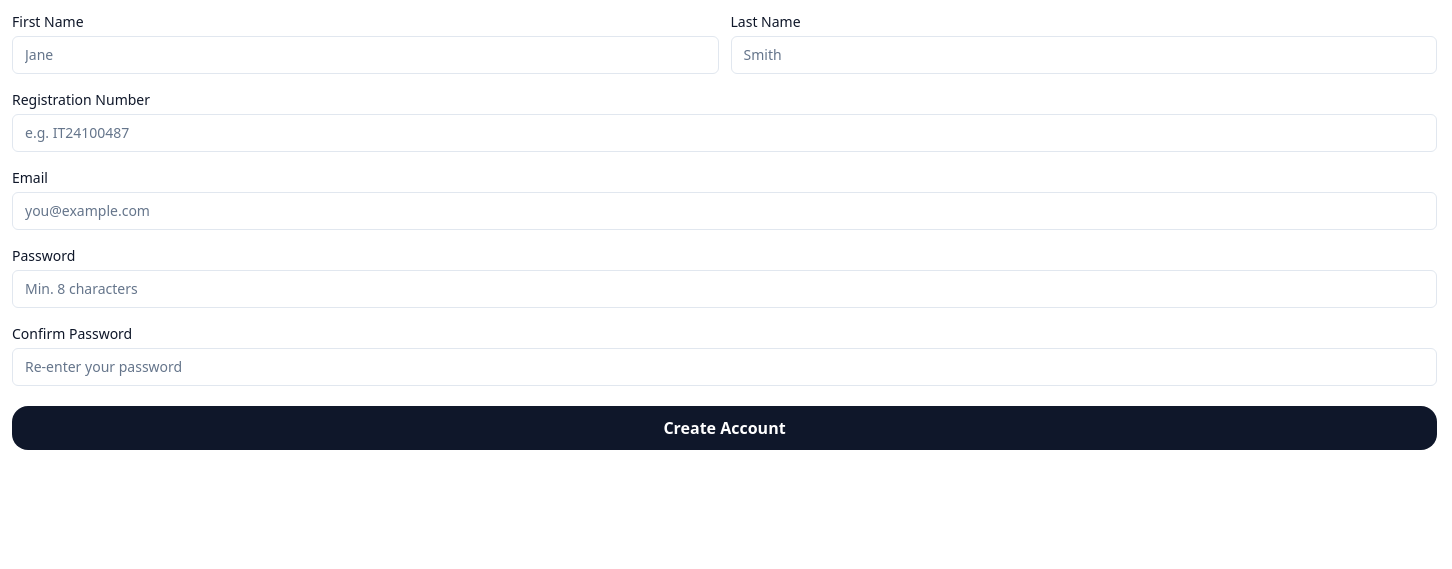
it: RegisterForm › client-side validation › shows required errors for all blank fields on submit
Click the button "Create Account": coordinates (724, 428) [12,406,1437,450]
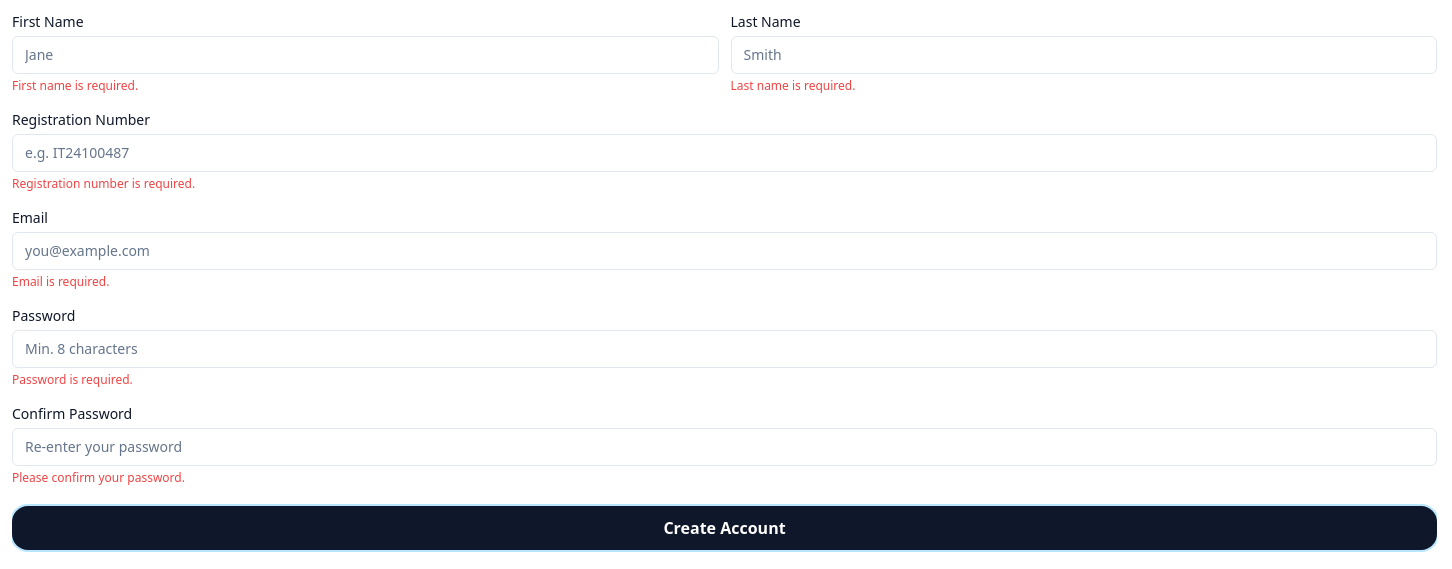
Expected: the text "First name is required." is shown, [12,77,138,94]
Expected: the text "Last name is required." is shown, [730,77,855,94]
Expected: the text "Email is required." is shown, [12,273,109,290]
